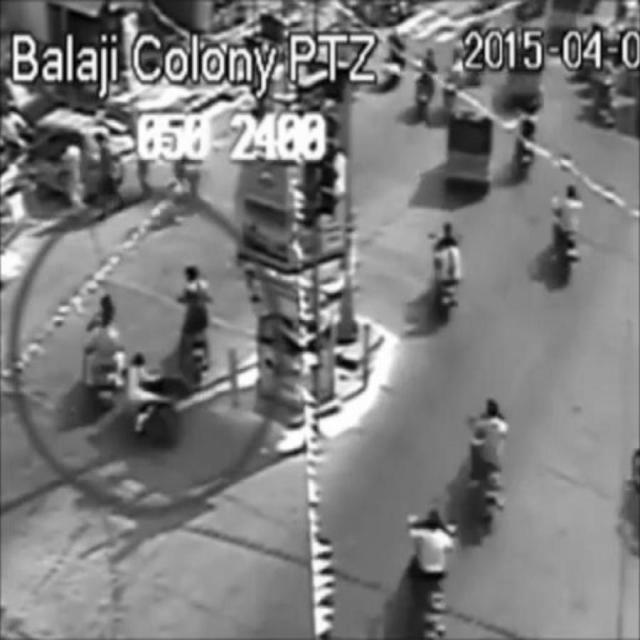vehicle: (40, 105, 120, 206), (404, 507, 458, 635), (463, 399, 511, 535), (173, 260, 215, 391), (128, 352, 183, 450), (82, 289, 123, 409), (448, 103, 494, 196), (549, 181, 585, 289), (424, 220, 461, 322), (510, 108, 537, 186)
